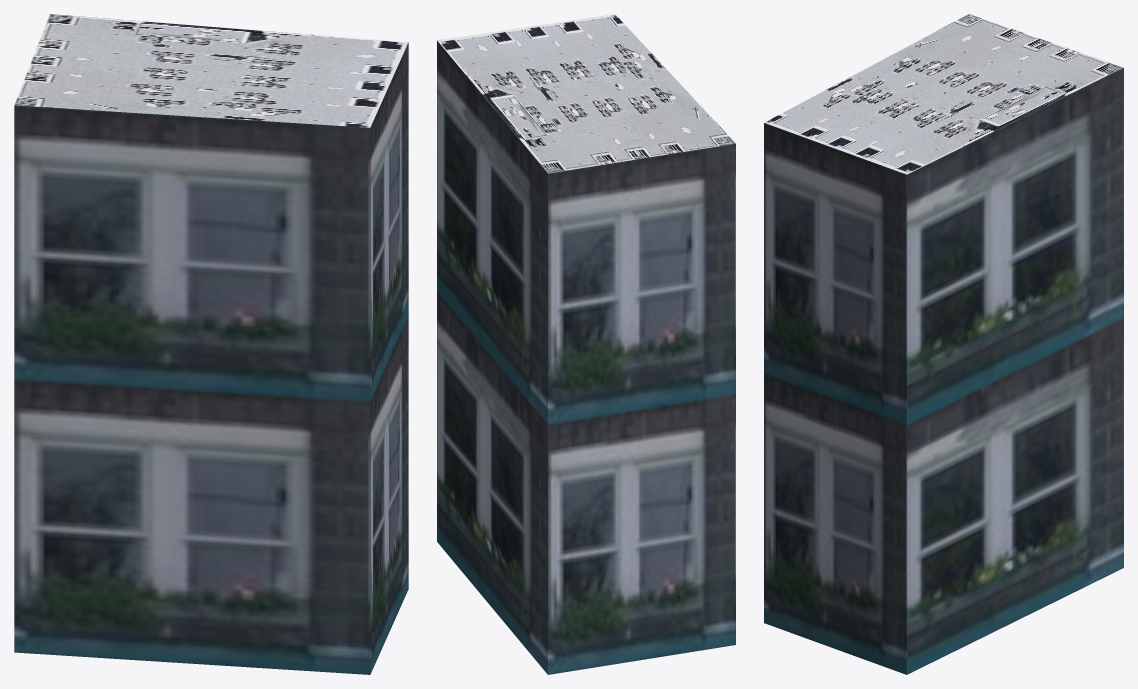
Rendered from ResTex__1355.fbx.
The picture shows the model from 3 angles, left to right: view 1: azimuth 30°, elevation 25°; view 2: azimuth 150°, elevation 25°; view 3: azimuth 270°, elevation 25°; orthographic projection. The views are drawn at different scales.
Visible parts, largest first — view 1: CityEngineMaterial_11_m, CityEngineMaterial_m; view 2: CityEngineMaterial_11_m, CityEngineMaterial_m; view 3: CityEngineMaterial_11_m, CityEngineMaterial_m.
Boxes of the visible parts, x1,y1,x2,y2 form: CityEngineMaterial_11_m: [14, 42, 408, 674]; CityEngineMaterial_m: [15, 14, 408, 127]; CityEngineMaterial_11_m: [437, 41, 735, 674]; CityEngineMaterial_m: [437, 14, 735, 173]; CityEngineMaterial_11_m: [764, 68, 1123, 674]; CityEngineMaterial_m: [764, 14, 1123, 174].
Bounding box in the file's own units: 4.13 × 6 × 3.91.
2 materials, 2 textured.
